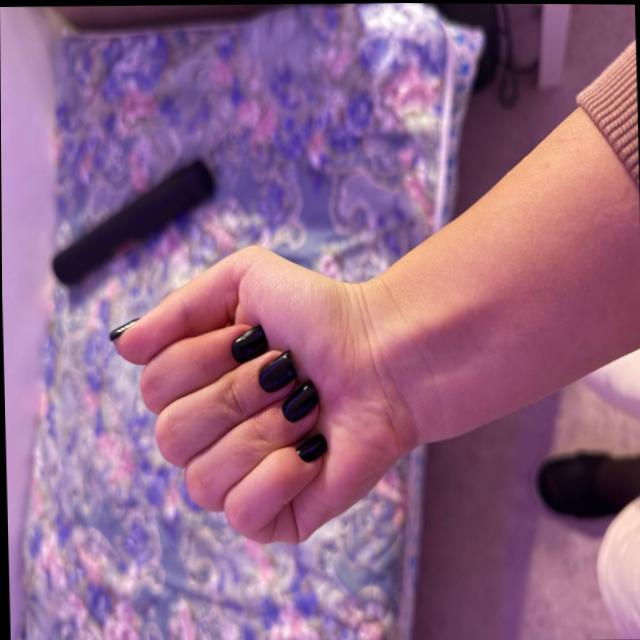a: (106, 228, 399, 557)
